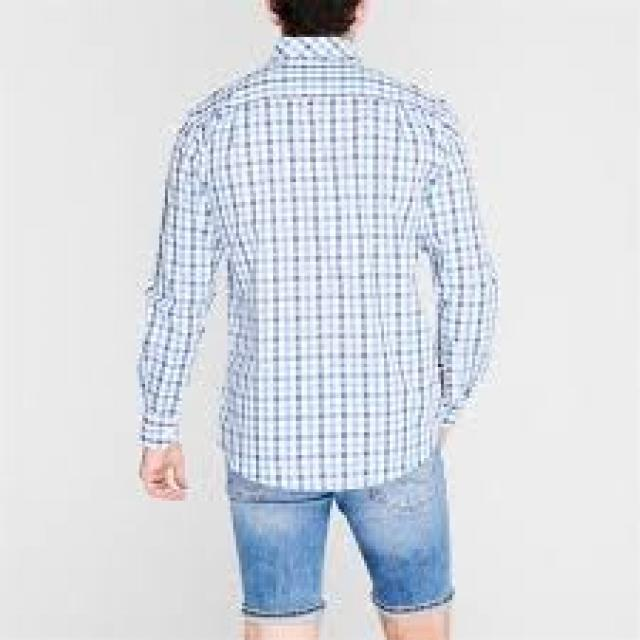plaid: (124, 40, 500, 488)
